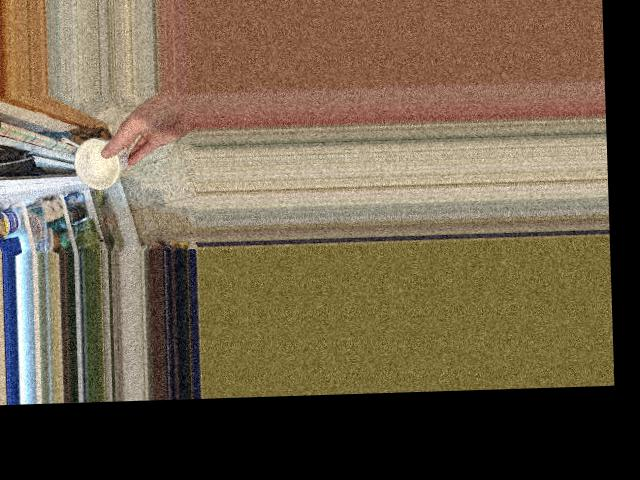cotage: (70, 133, 134, 184)
